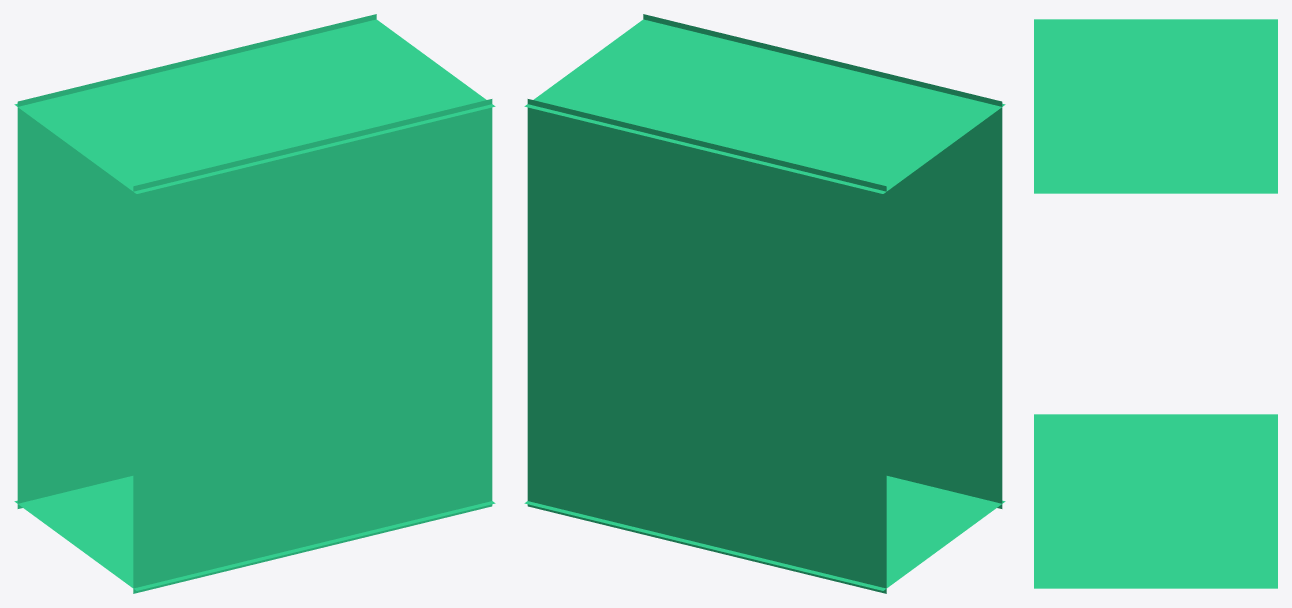
File: ColDuctTallStraight.fbx
The picture shows the model from 3 angles, left to right: view 1: azimuth 30°, elevation 25°; view 2: azimuth 150°, elevation 25°; view 3: azimuth 270°, elevation 25°; orthographic projection.
Visible parts, largest first — view 1: ColDuctStraight.001; view 2: ColDuctStraight.001; view 3: ColDuctStraight.001.
Part boxes in pixels (box(x1,y1,x2,y2)): ColDuctStraight.001: box(14, 14, 495, 593); ColDuctStraight.001: box(524, 14, 1005, 593); ColDuctStraight.001: box(1034, 19, 1277, 588).
Size of the model in its own units: 200 by 217 by 118.
